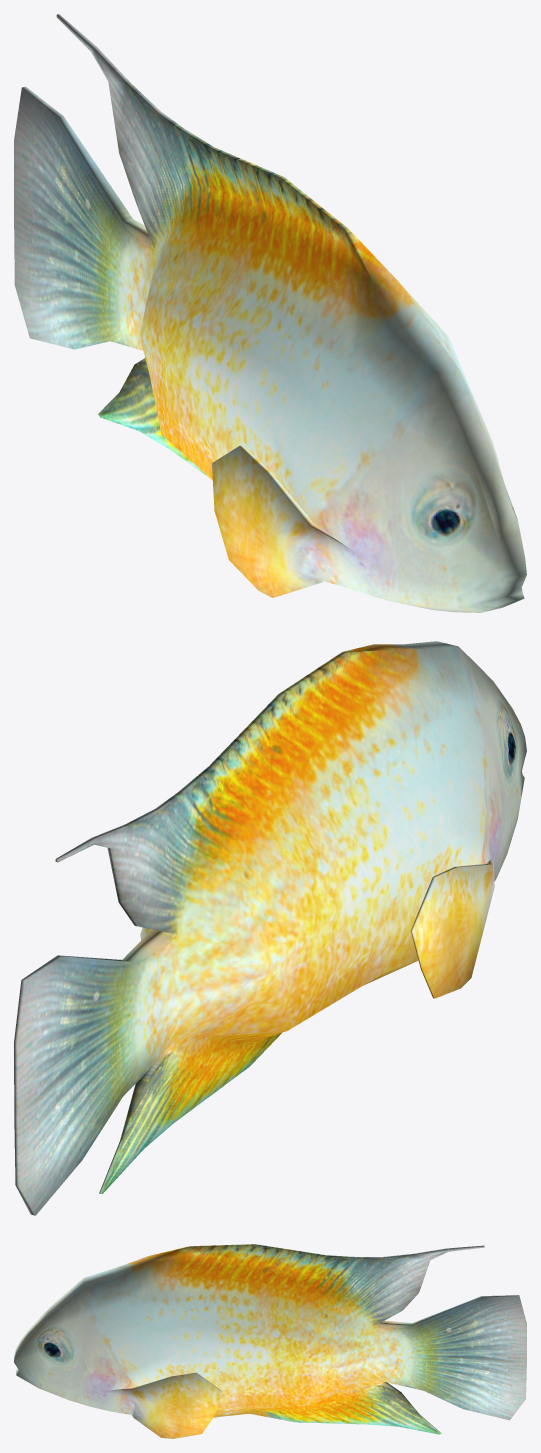
The model's file is fish14.glb.
The picture shows the model from 3 angles, top to bottom: view 1: azimuth 30°, elevation 25°; view 2: azimuth 150°, elevation 25°; view 3: azimuth 270°, elevation 25°; orthographic projection. The views are drawn at different scales.
Visible parts, largest first — view 1: Asset3DLoader.sceneRoot; view 2: Asset3DLoader.sceneRoot; view 3: Asset3DLoader.sceneRoot.
Part boxes in pixels (x1,y1,x2,y2): Asset3DLoader.sceneRoot: (14,14,526,612); Asset3DLoader.sceneRoot: (14,641,526,1215); Asset3DLoader.sceneRoot: (14,1244,526,1438).
Size of the model in its own units: 117 by 197 by 482.
Materials: 1 (1 with a texture image).
